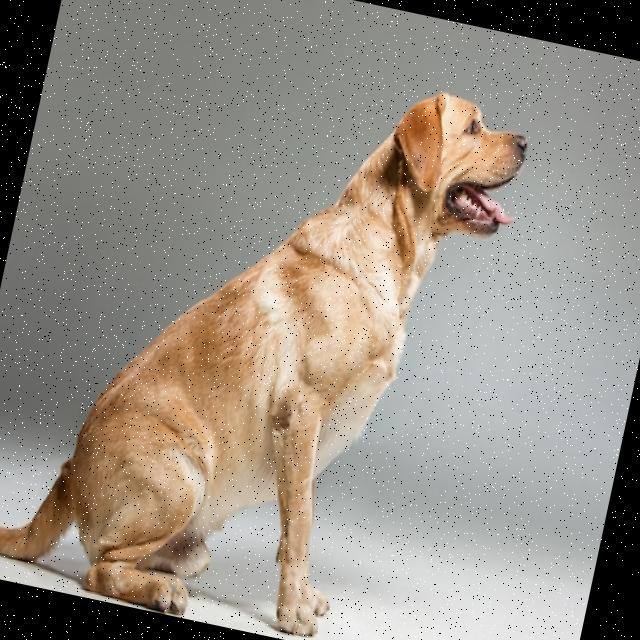Dog: (0, 7, 534, 640)
